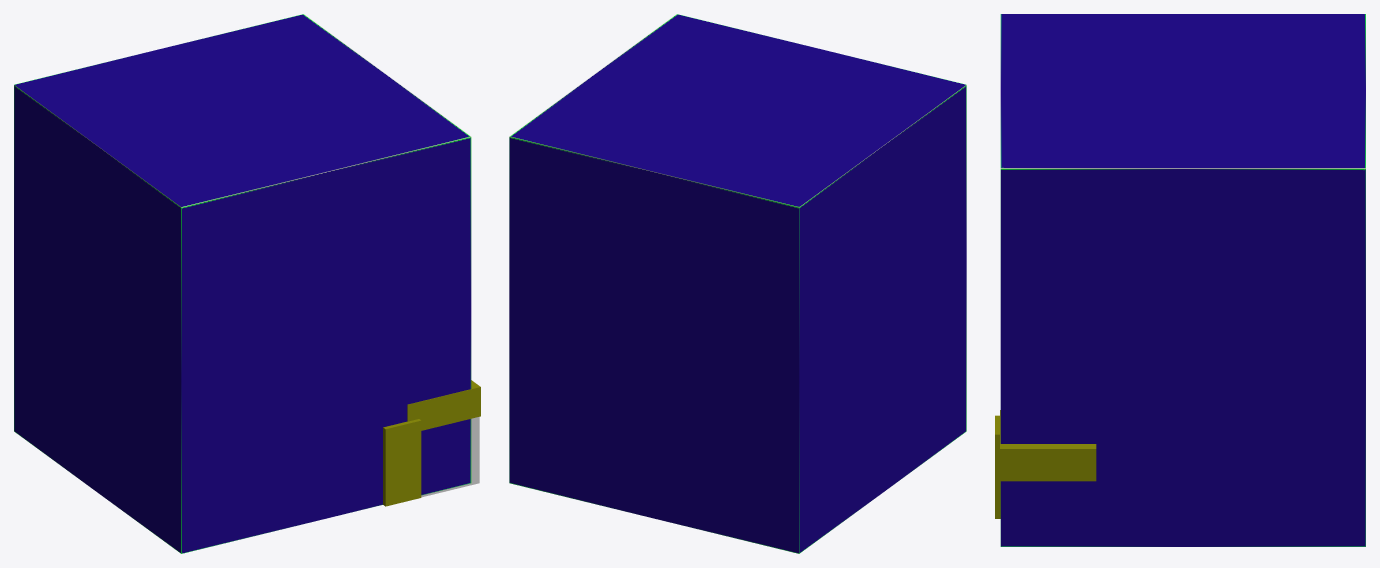
File: ptlig_[00]_[255]_[255]_[255]_[40].FBX
3 views of the same model, side by side, from view 1: azimuth 30°, elevation 25°; view 2: azimuth 150°, elevation 25°; view 3: azimuth 270°, elevation 25° (orthographic). The views are drawn at different scales.
Parts seen in each view (by area): view 1: Box001, Box005, Box009, Plane001; view 2: Box001; view 3: Box001, Box009, Box005.
Boxes of the visible parts, left/top/right/bottom form: Box001: left=14, top=14, right=471, bottom=553; Box005: left=383, top=419, right=421, bottom=506; Box009: left=407, top=380, right=480, bottom=430; Plane001: left=421, top=417, right=479, bottom=497; Box001: left=509, top=14, right=966, bottom=553; Box001: left=1000, top=14, right=1365, bottom=546; Box009: left=1000, top=410, right=1096, bottom=481; Box005: left=995, top=415, right=1000, bottom=518.
Bounding box in the file's own units: 103 × 101 × 115.
